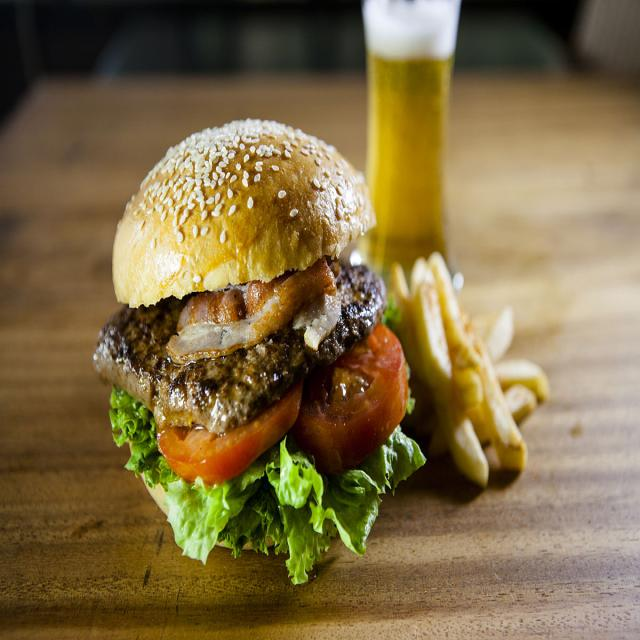burger: (76, 102, 433, 576)
